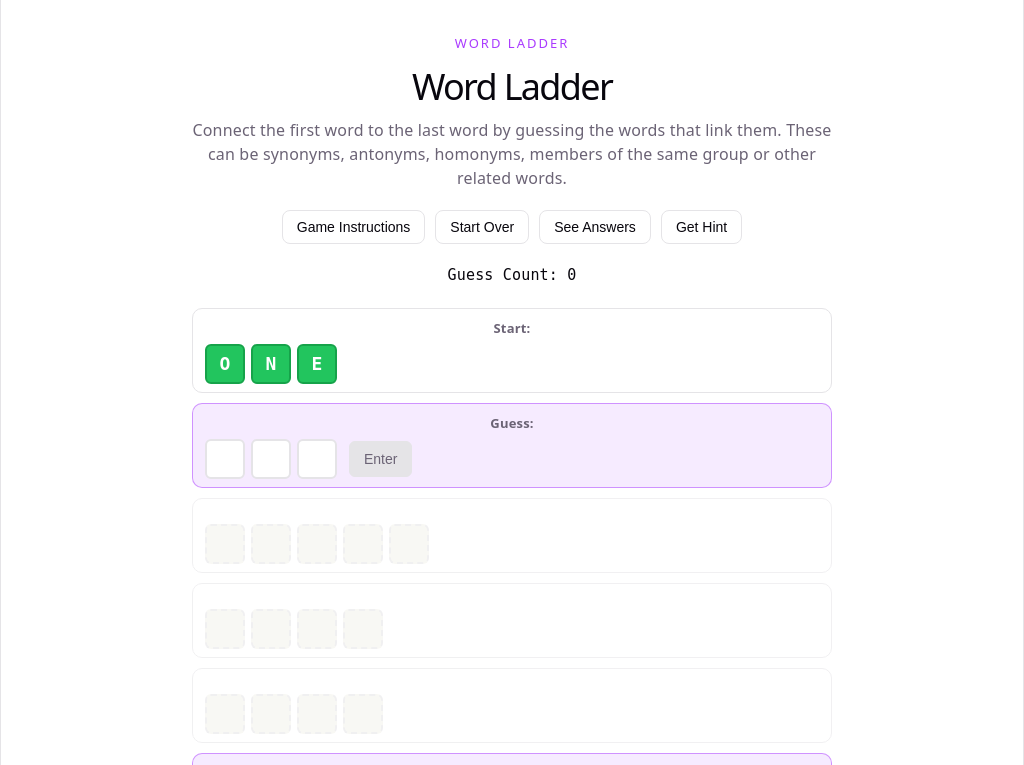
Test: App (Word Ladder game) › rejects a guess that is not a dictionary word, without incrementing the count
Type "Z" into the field named "Row 2, letter 1" at (225, 459), box [205,439,245,479]
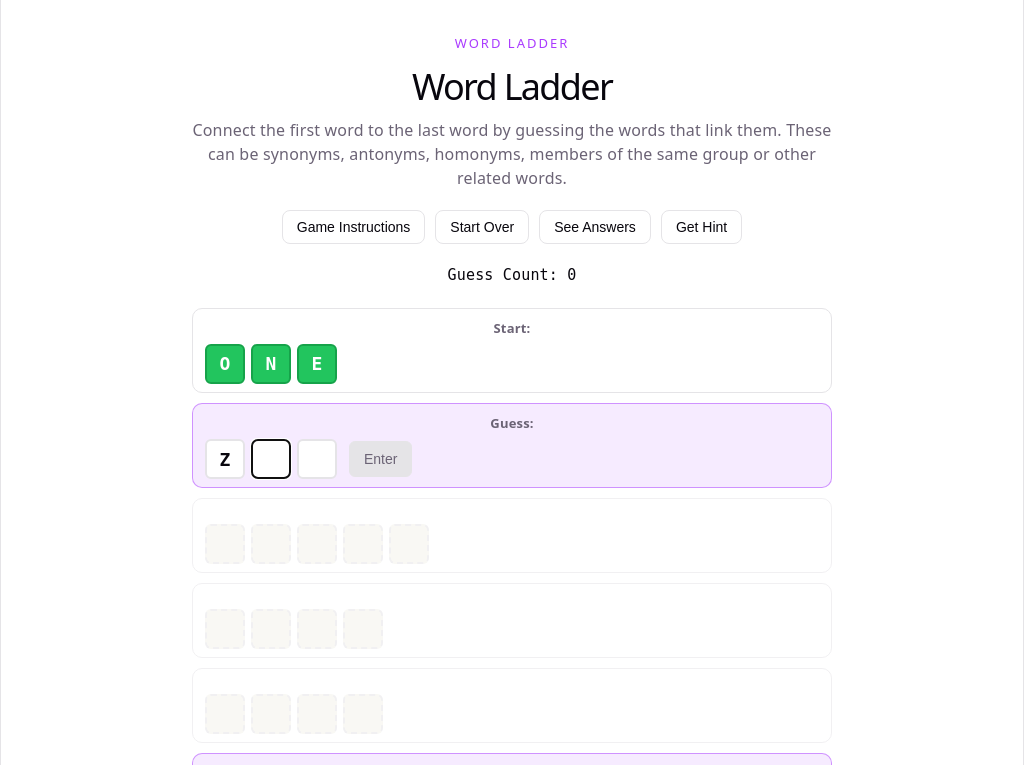
Type "Z" into the field named "Row 2, letter 2" at (271, 459), box [251,439,291,479]
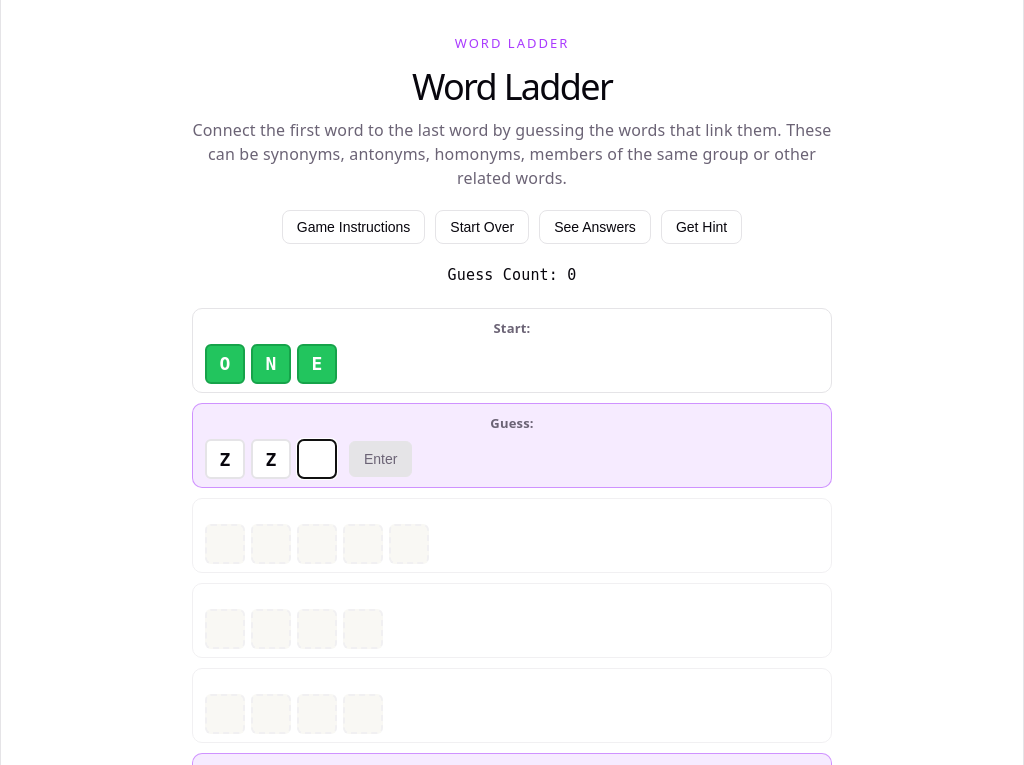
Type "Z" into the field named "Row 2, letter 3" at (317, 459), box [297,439,337,479]
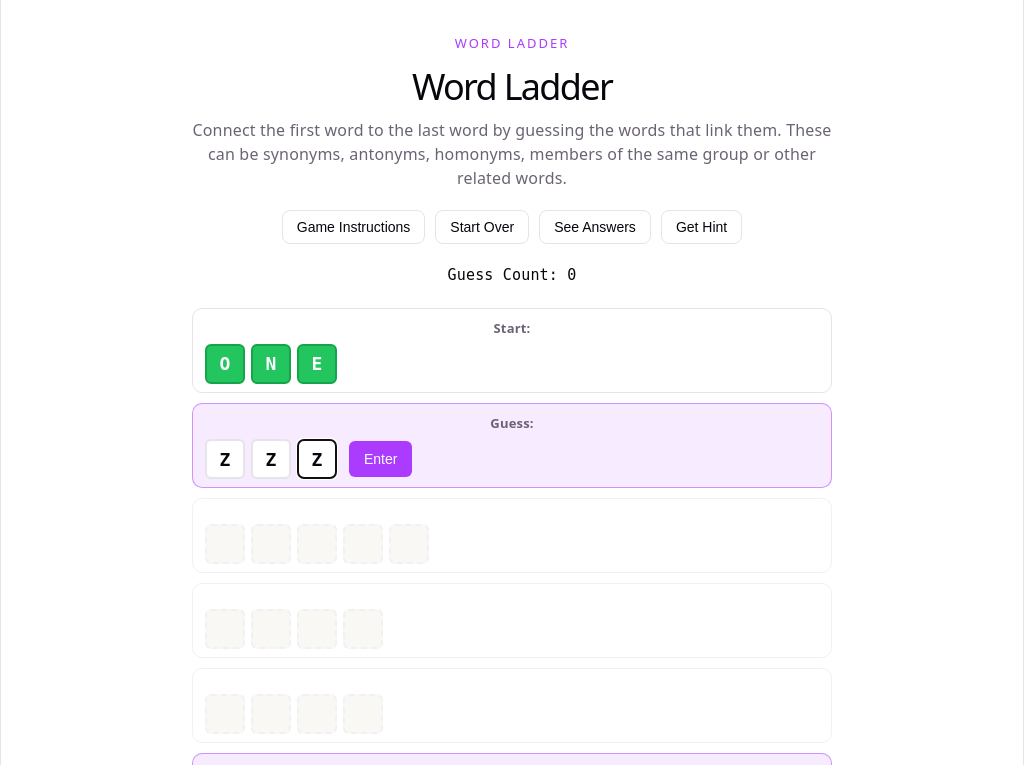
Click the button "Enter" at (381, 459), box [349,441,412,477]
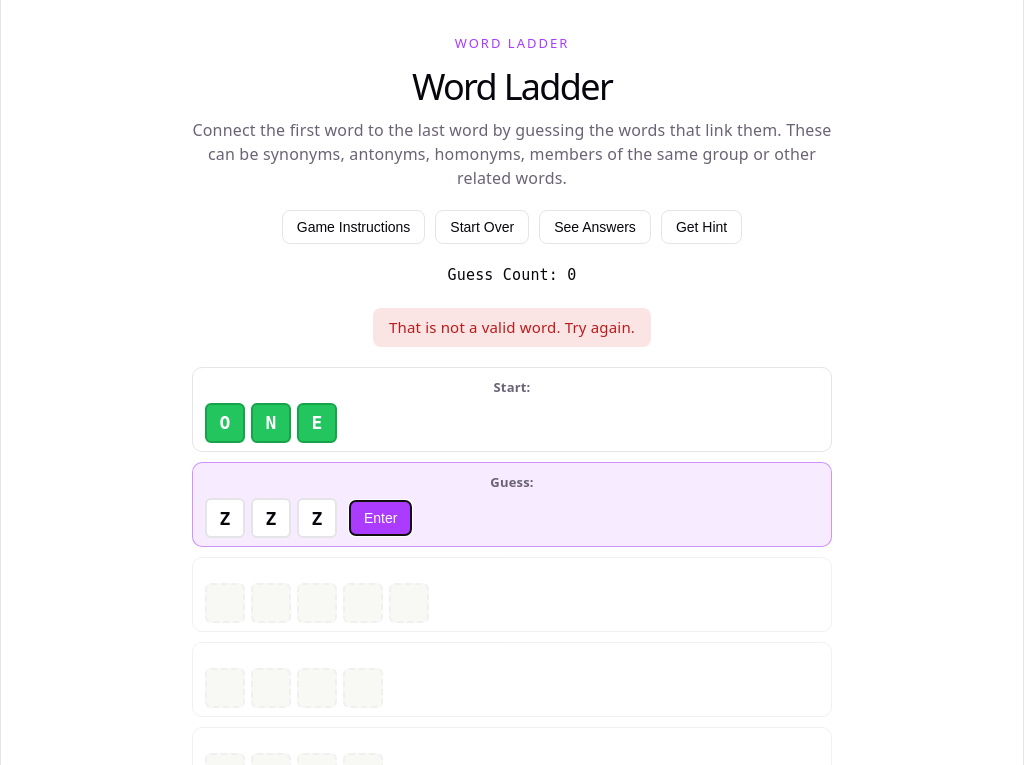
Check: the text with class "word-ladder__count" shows "0", box [567,266,576,284]
Check: the text "That is not a valid word. Try again." is shown, box [373,308,651,347]
